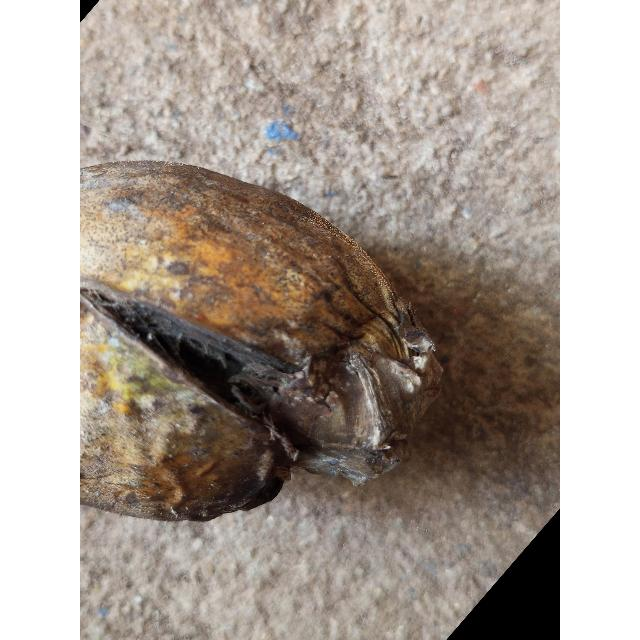damaged: (80, 160, 443, 525)
